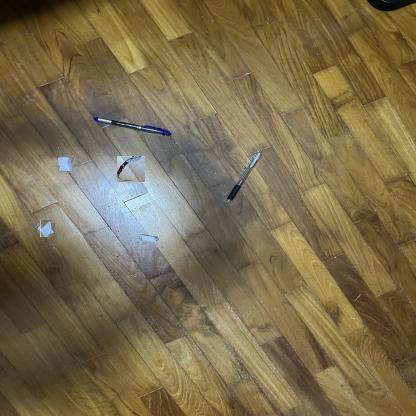dirty: (117, 156, 145, 182), (58, 157, 74, 171), (39, 221, 53, 236)
